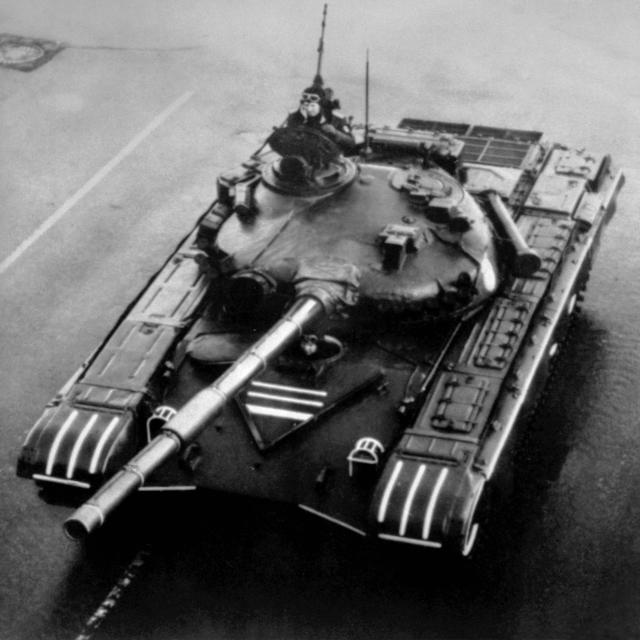Tanks: (7, 79, 620, 624)
